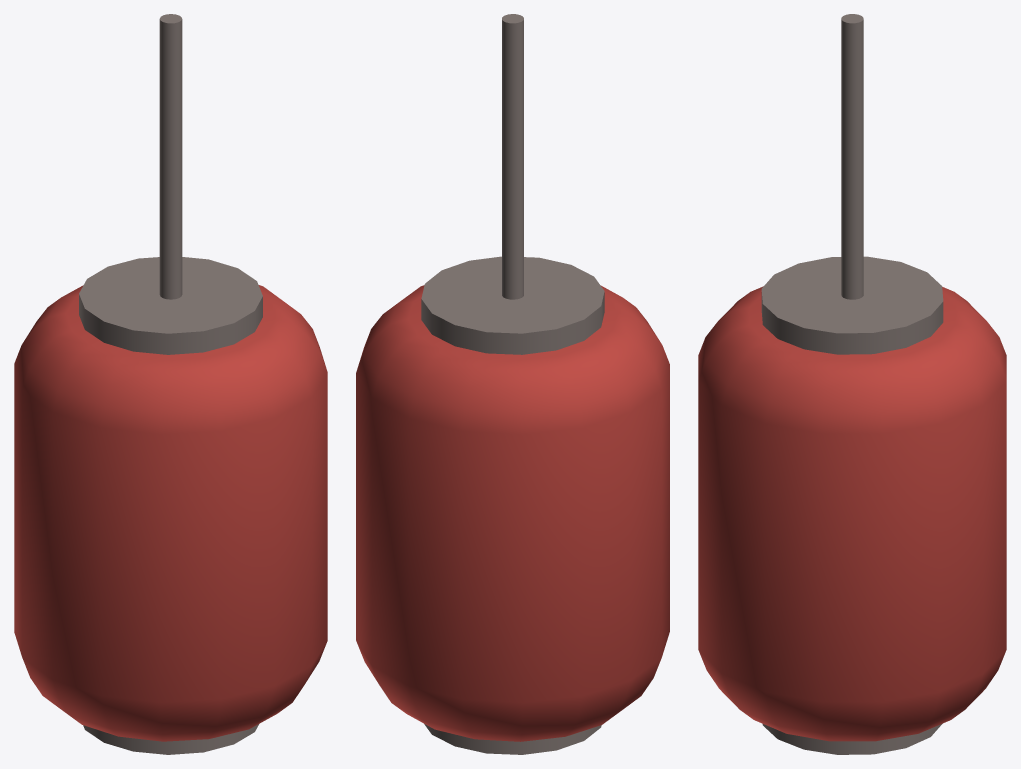
File: Lamp_Red.fbx
The picture shows the model from 3 angles, left to right: view 1: azimuth 30°, elevation 25°; view 2: azimuth 150°, elevation 25°; view 3: azimuth 270°, elevation 25°; orthographic projection.
Parts seen in each view (by area): view 1: Lamp1_Element3_001__1_, Cylinder_005__1_, Cylinder_003__1_, Cylinder_004__1_; view 2: Lamp1_Element3_001__1_, Cylinder_005__1_, Cylinder_003__1_, Cylinder_004__1_; view 3: Lamp1_Element3_001__1_, Cylinder_005__1_, Cylinder_003__1_, Cylinder_004__1_.
Part boxes in pixels (left/top/right/bottom): Lamp1_Element3_001__1_: left=14, top=285, right=327, bottom=741; Cylinder_005__1_: left=79, top=257, right=262, bottom=354; Cylinder_003__1_: left=159, top=14, right=182, bottom=299; Cylinder_004__1_: left=83, top=724, right=258, bottom=754; Lamp1_Element3_001__1_: left=356, top=285, right=669, bottom=741; Cylinder_005__1_: left=421, top=256, right=604, bottom=354; Cylinder_003__1_: left=502, top=14, right=523, bottom=299; Cylinder_004__1_: left=424, top=724, right=601, bottom=754; Lamp1_Element3_001__1_: left=698, top=286, right=1006, bottom=741; Cylinder_005__1_: left=761, top=256, right=943, bottom=354; Cylinder_003__1_: left=841, top=14, right=863, bottom=299; Cylinder_004__1_: left=762, top=723, right=942, bottom=754.
Bounding box in the file's own units: 62.4 × 156 × 62.4.
